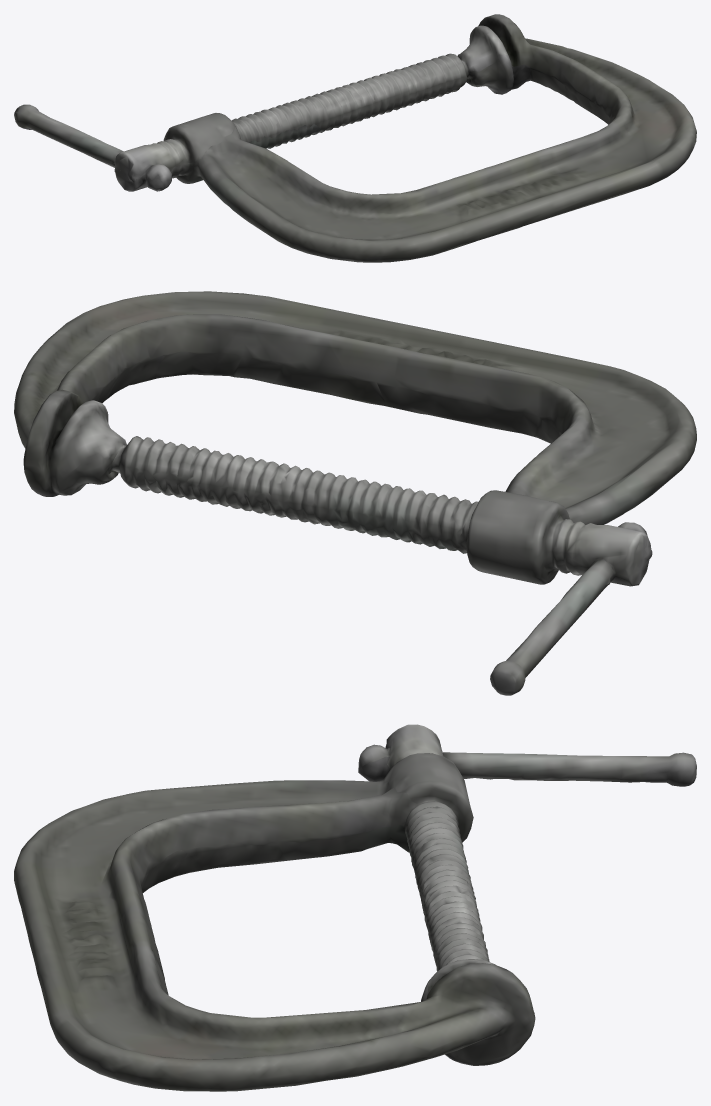
The model's file is Pony_C_Clamp_1440-high.glb.
3 renders of one model, top to bottom at view 1: azimuth 30°, elevation 25°; view 2: azimuth 150°, elevation 25°; view 3: azimuth 270°, elevation 25°, orthographic. The views are drawn at different scales.
Visible parts, largest first — view 1: Pony_C_Clamp_1440; view 2: Pony_C_Clamp_1440; view 3: Pony_C_Clamp_1440.
Part boxes in pixels (left/top/right/bottom): Pony_C_Clamp_1440: left=14, top=14, right=696, bottom=262; Pony_C_Clamp_1440: left=14, top=291, right=696, bottom=695; Pony_C_Clamp_1440: left=14, top=724, right=696, bottom=1091.
Size of the model in its own units: 0.2022 by 0.0272 by 0.1728.
Materials: 1 (1 with a texture image).
